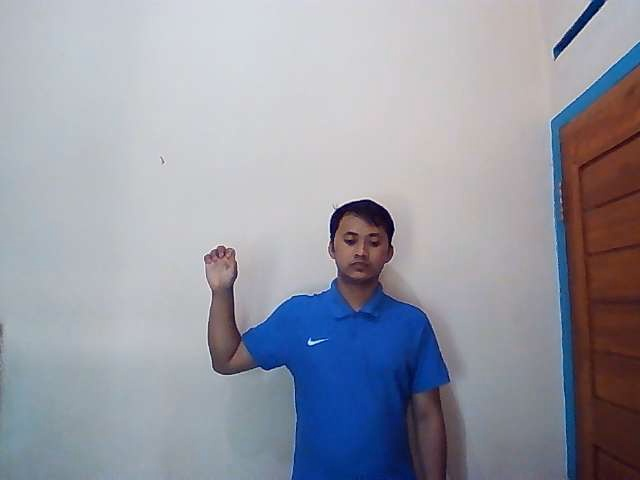E: (203, 245, 240, 291)
